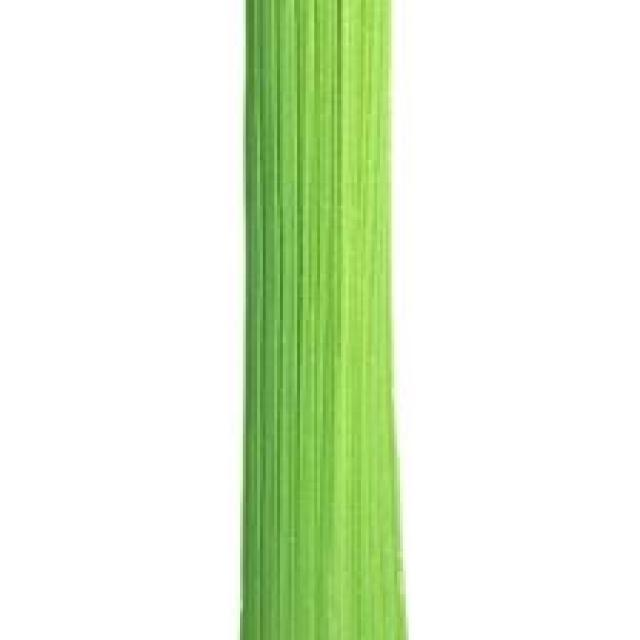Rice___Healthy_Rice_Plant: (240, 1, 411, 637)
